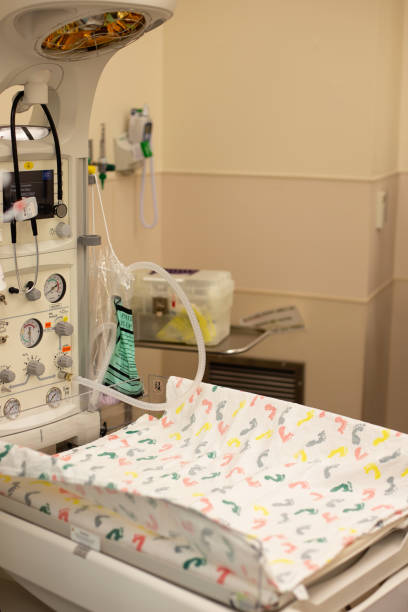bedside_monitor: (1, 167, 60, 224)
breathing_tube: (74, 261, 206, 412)
panda_baby_warmer: (2, 2, 408, 608)
